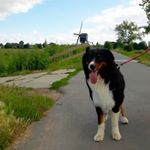puppy: (80, 42, 132, 144)
